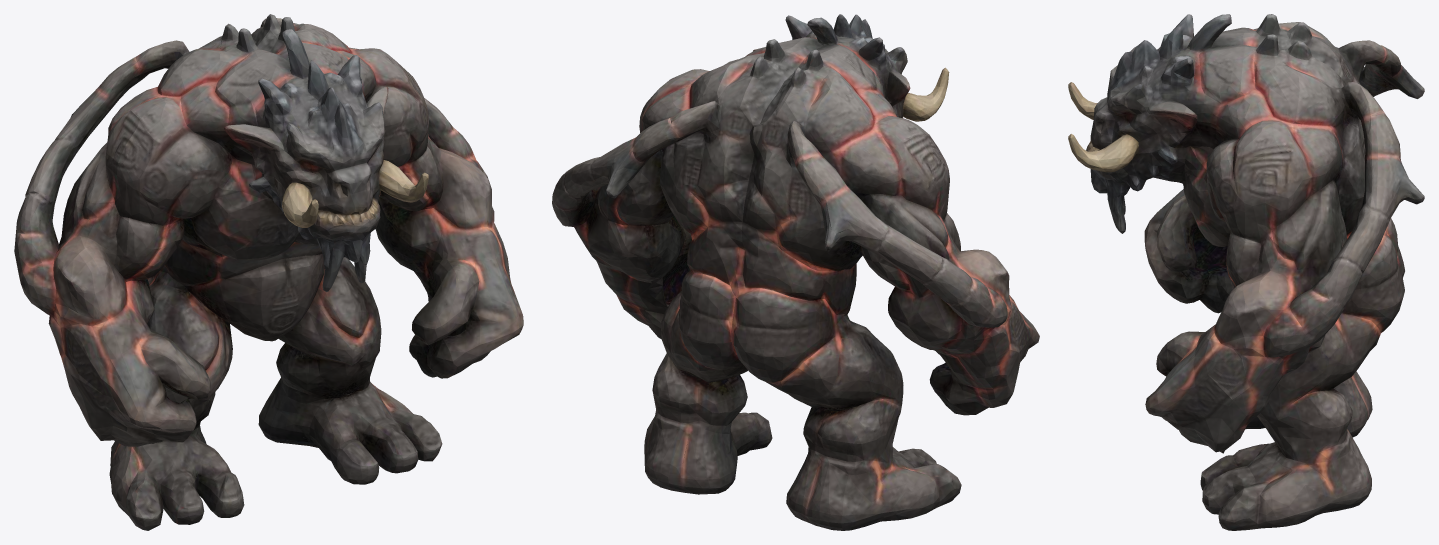
Rendered from basaltTroll.glb.
The picture shows the model from 3 angles, left to right: view 1: azimuth 30°, elevation 25°; view 2: azimuth 150°, elevation 25°; view 3: azimuth 270°, elevation 25°; orthographic projection. The views are drawn at different scales.
Parts seen in each view (by area): view 1: world; view 2: world; view 3: world.
Boxes of the visible parts, x1,y1,x2,y2 form: world: (14,14,523,530); world: (552,14,1039,530); world: (1068,14,1424,530).
Size of the model in its own units: 1 by 0.9665 by 0.6985.
Materials: 1 (1 with a texture image).
